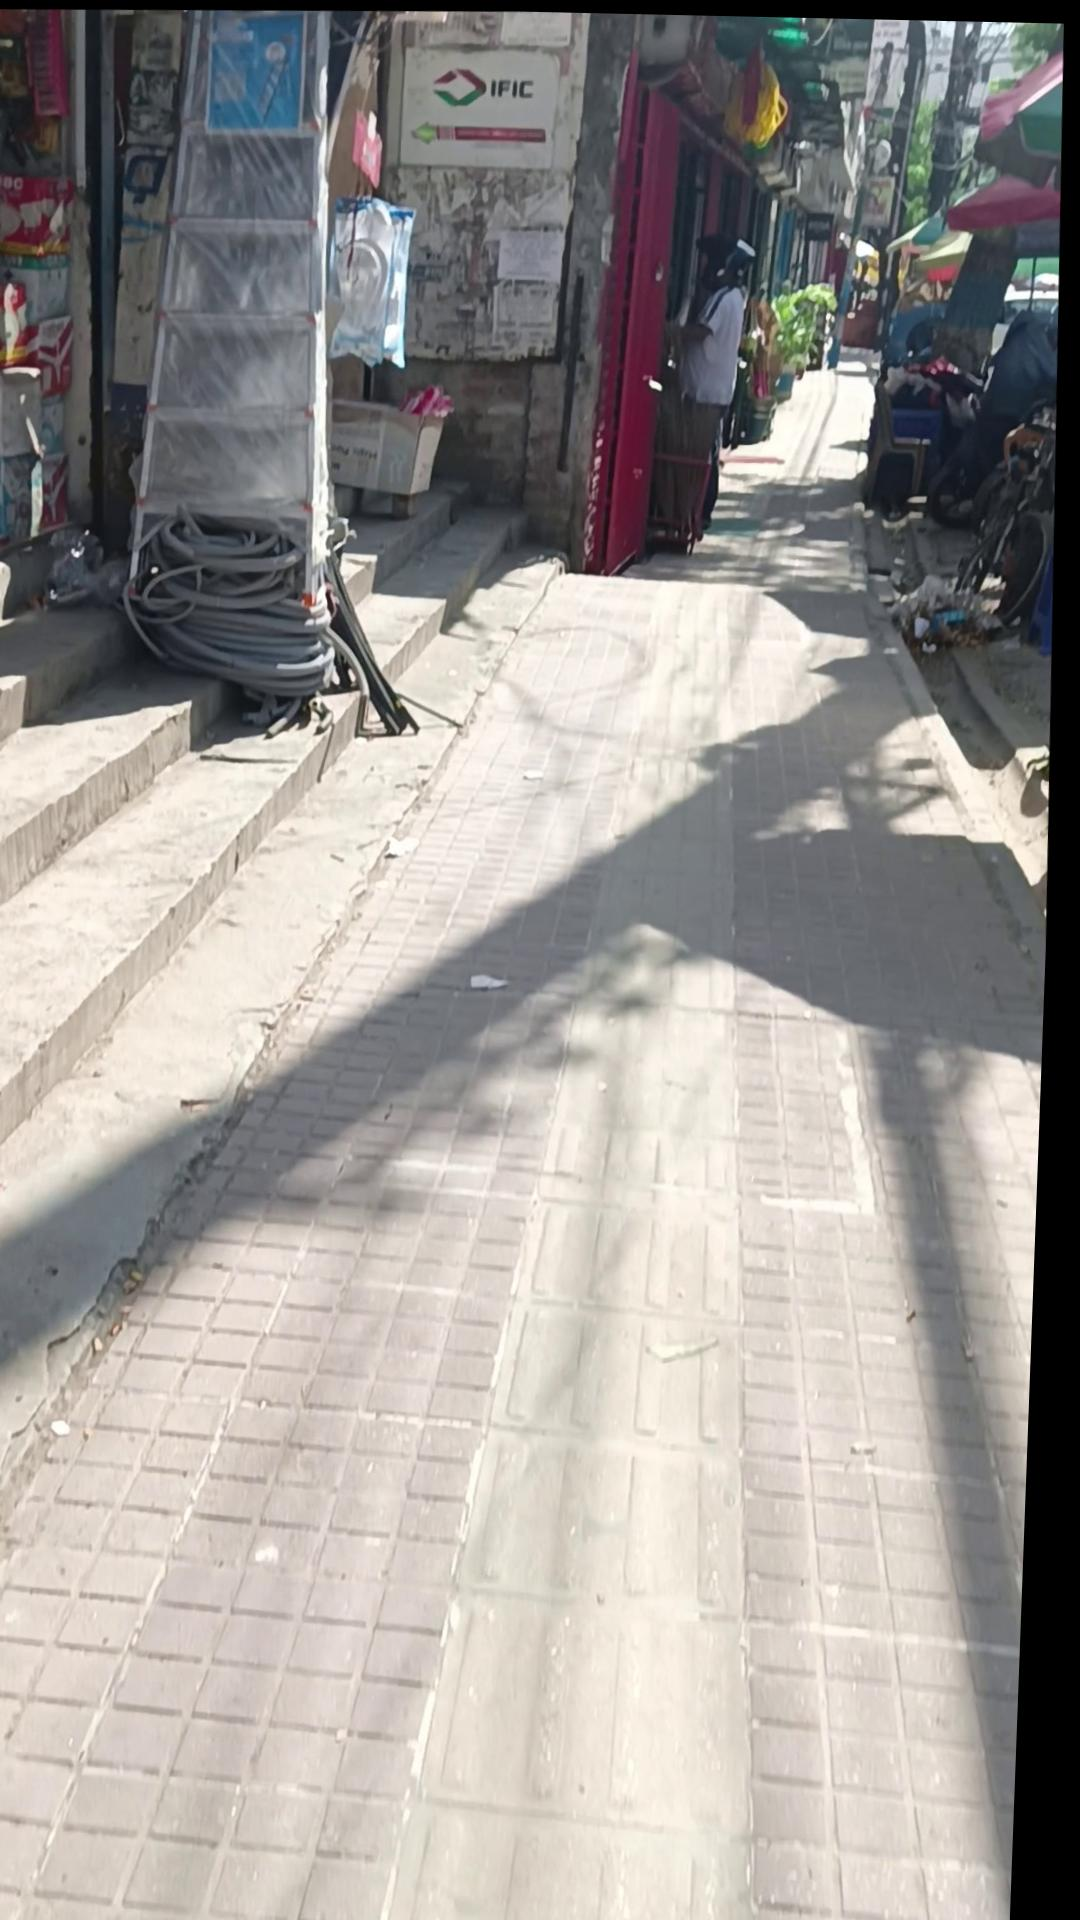Broken-road: (847, 495, 1062, 894)
Cat: (745, 390, 779, 439)
Curb: (663, 228, 762, 538)
Fallen-tree: (736, 273, 843, 442)
Garbage: (0, 332, 1071, 1920)
Motorcycle: (0, 468, 580, 1580)
Obstacle: (339, 7, 636, 566)
